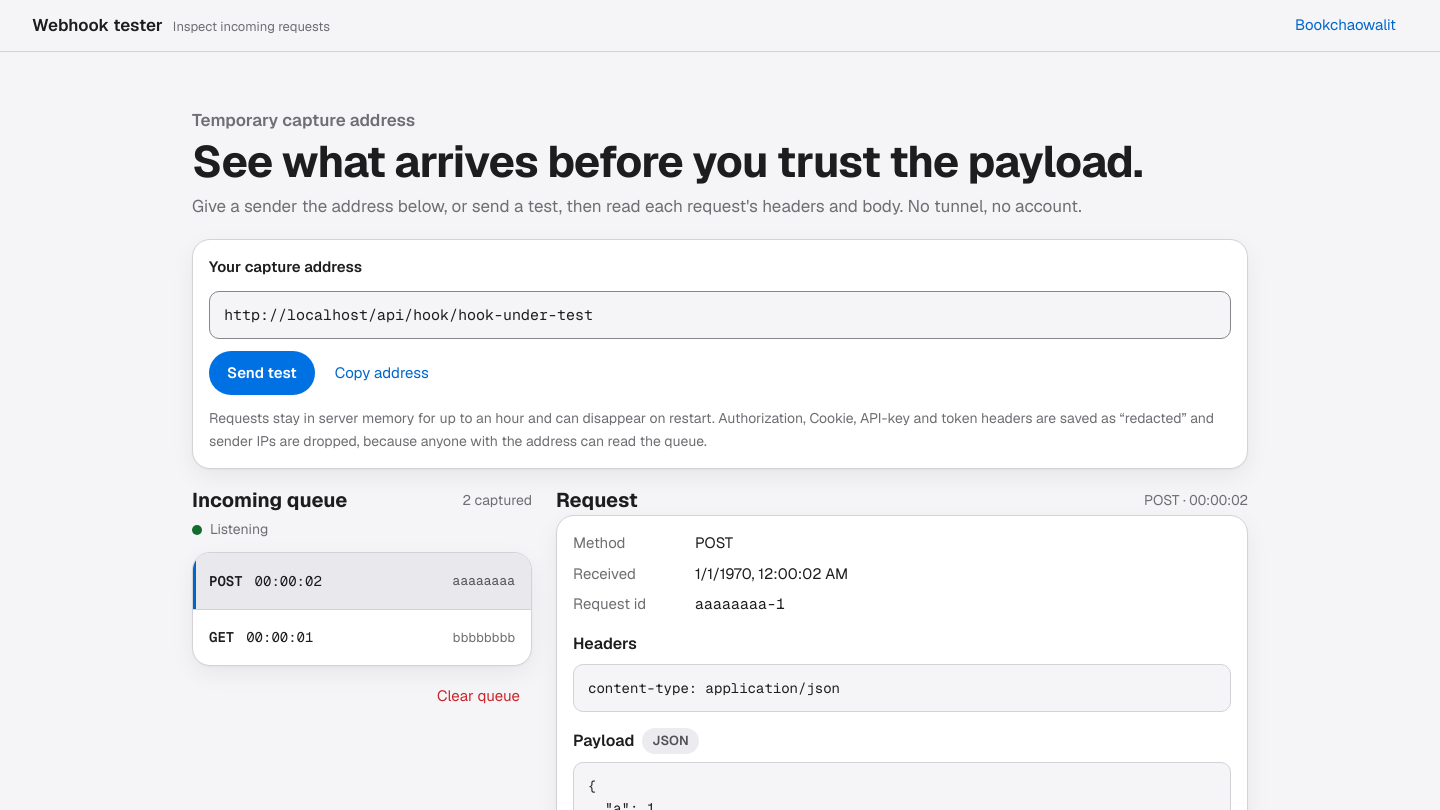
Scenario: batch Undo › keyboard remove focuses Undo; the toast stays while focused, Escape clears now and returns to the queue
Click the button "Clear queue" at (478, 696), box [425,674,532,718]
Wait 12000 ms
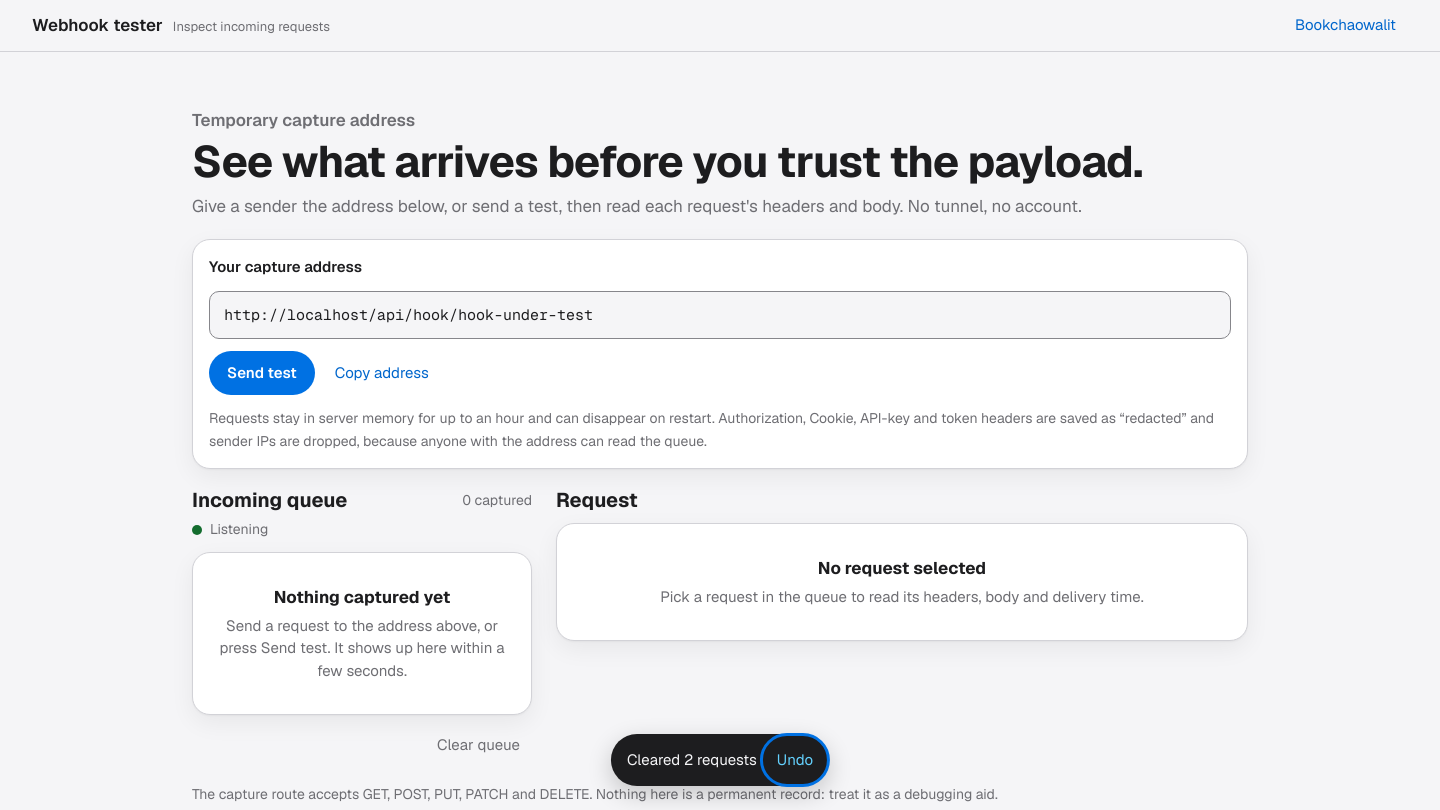
Expected: the element with class "as-toast" is shown
Press Escape in the element with class "as-toast", box [611,734,829,786]
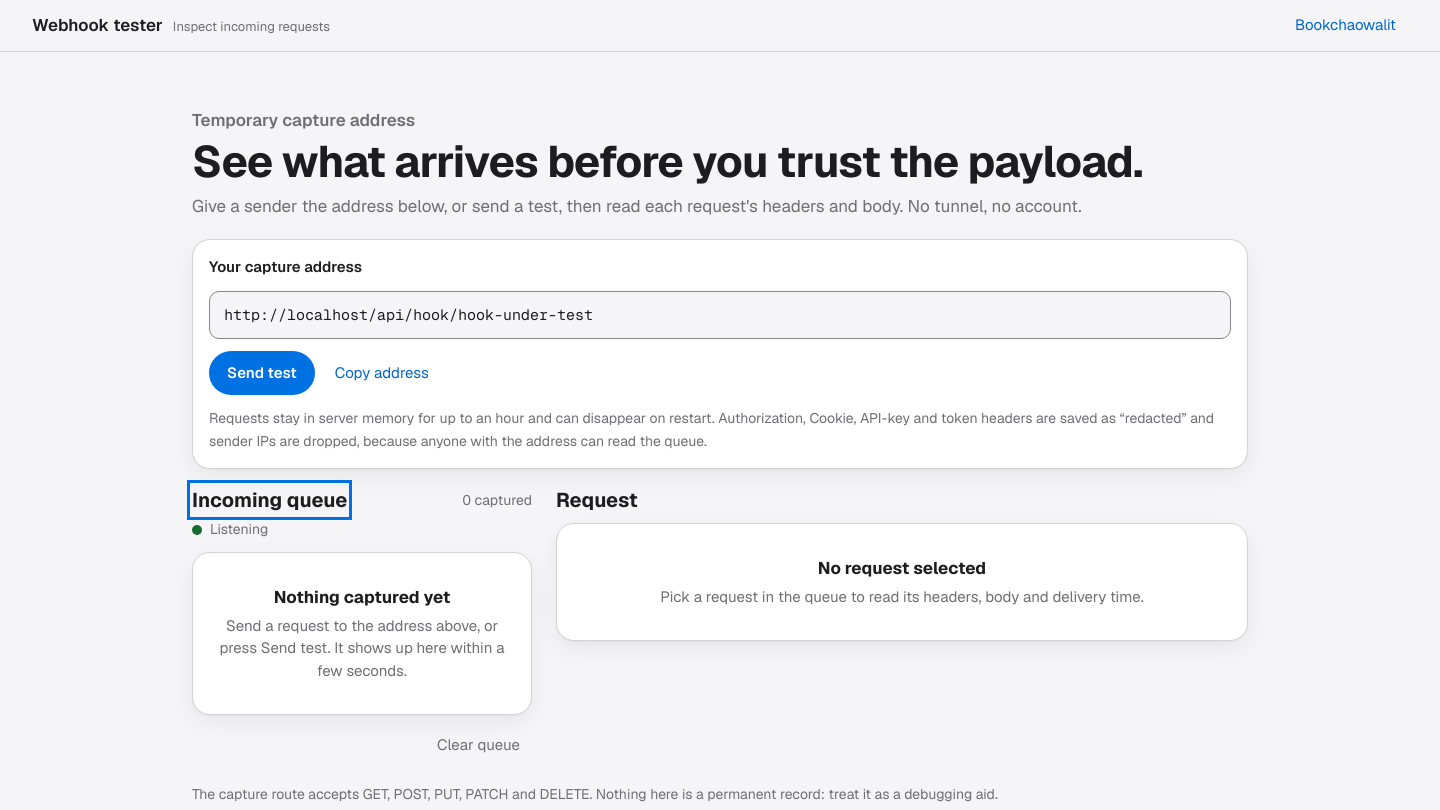
Expected: the element with class "as-toast" is gone
